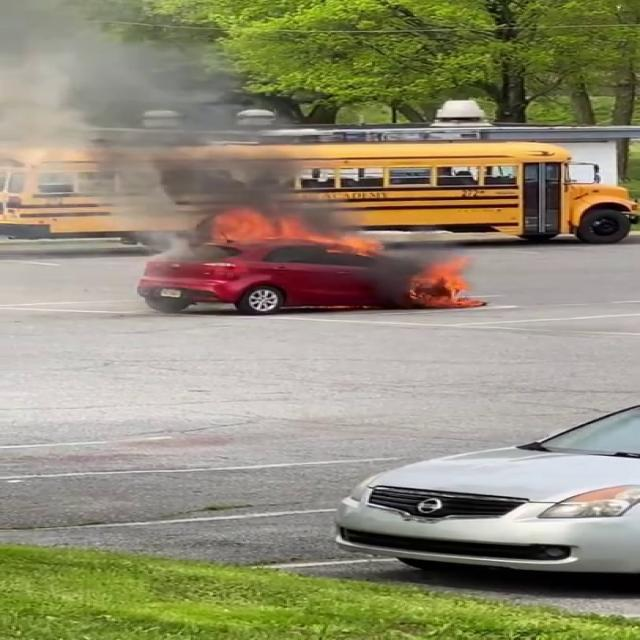Fire: (200, 208, 386, 252), (404, 254, 488, 308)
Smoke: (1, 0, 337, 221)
